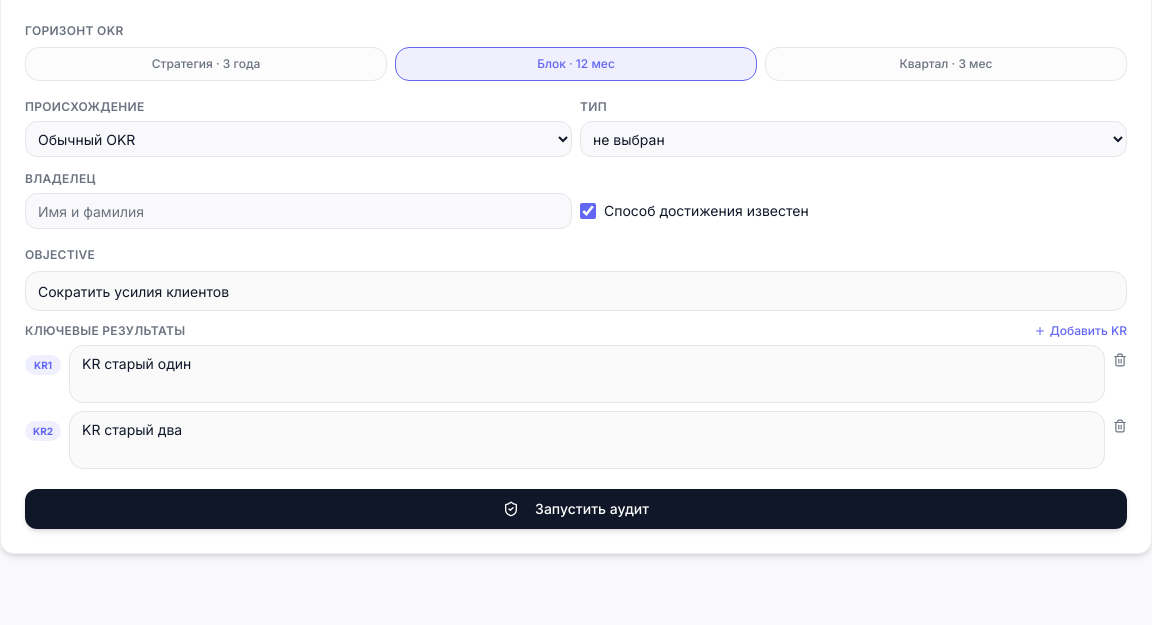
it: F-03: complete an edit session before re-auditing › on successful re-audit shows before/after and restores current actions
Click the button "Запустить аудит". click: (576, 509)
box: [25,489,1127,529]
(page scrolled)
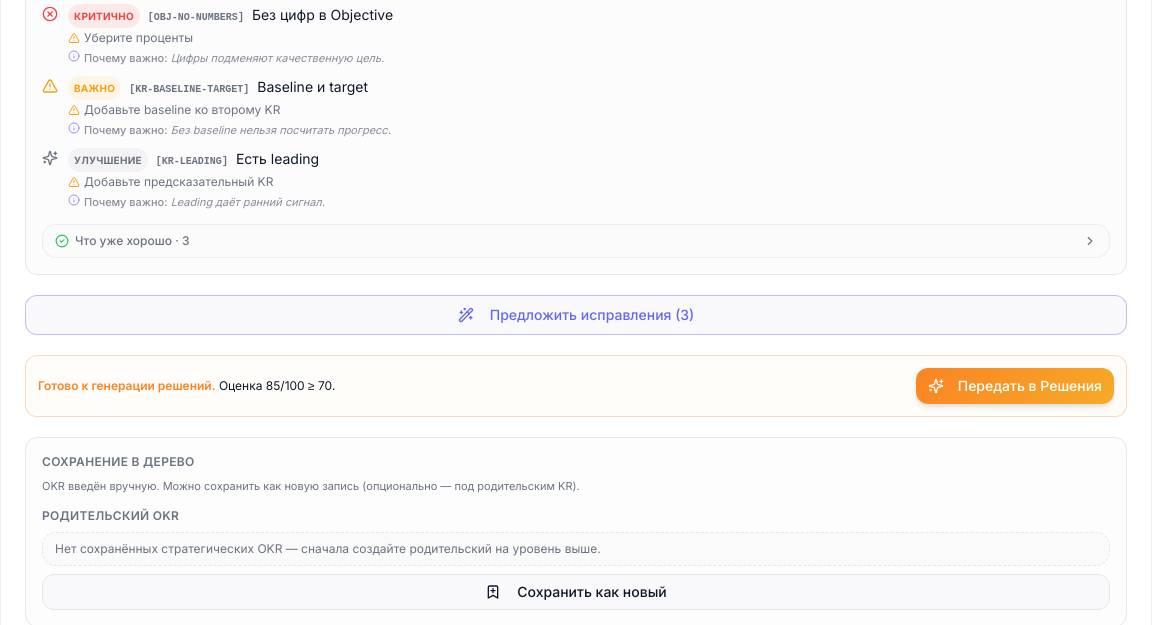
Now the button with test id "request-fix-button" is shown
Click the button with test id "request-fix-button". click: (576, 314)
box: [25,294,1127,334]
(page scrolled)
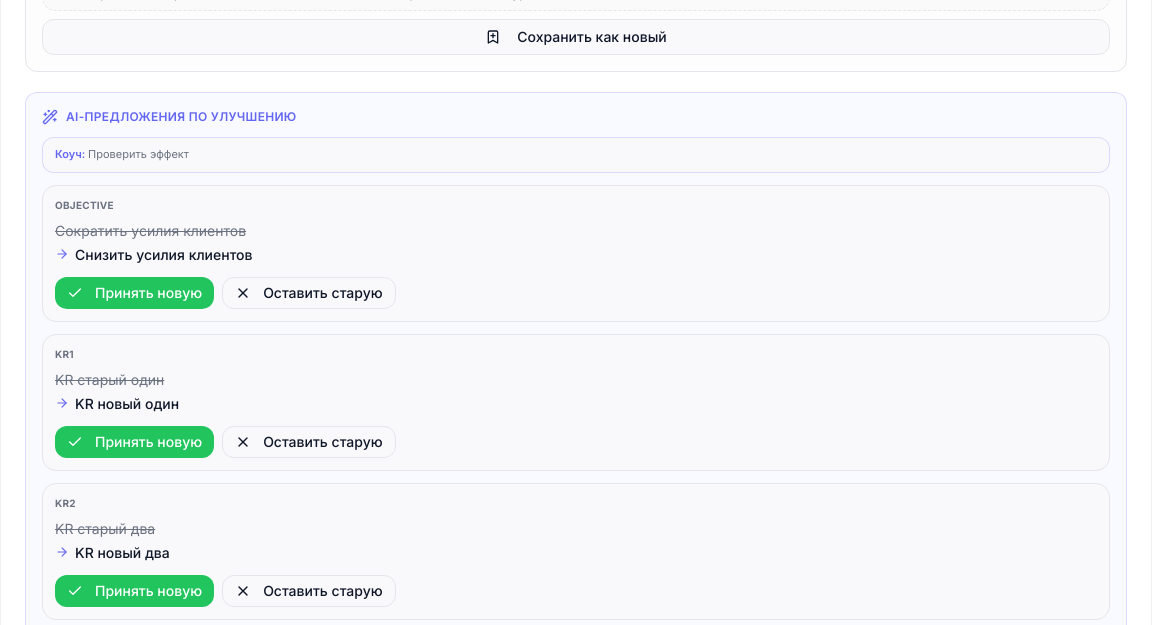
Now the text "KR новый два" is shown, box [75,543,170,563]
Click the button "Принять новую" below "Снизить усилия клиентов". click: (135, 293)
box: [55,277,214,309]
(page scrolled)
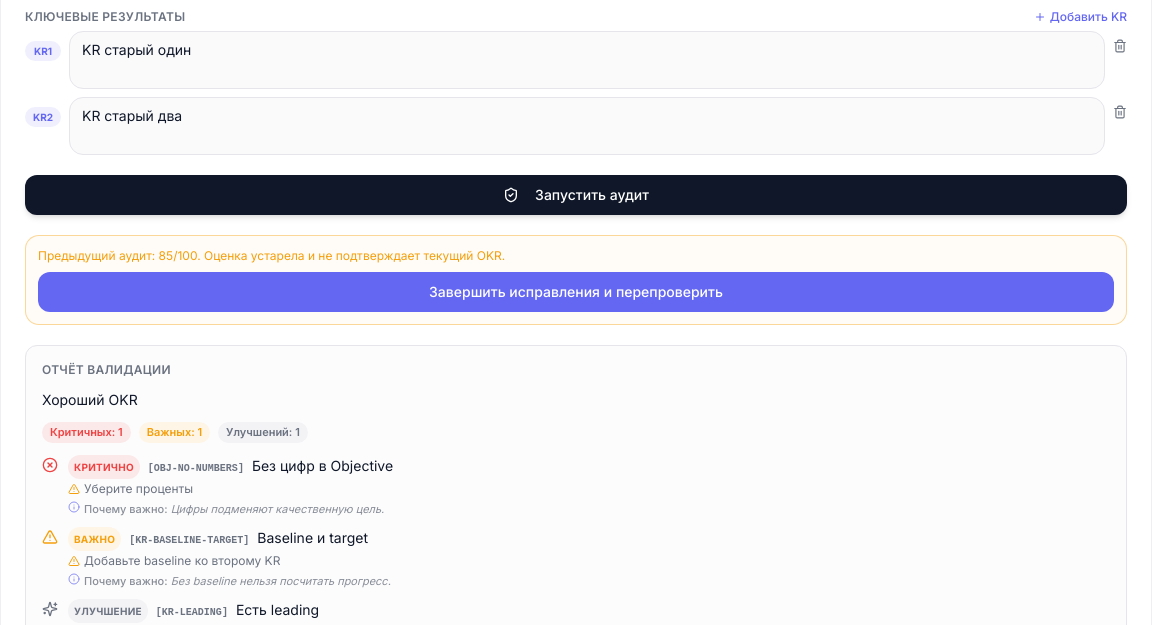
Click the button "Завершить исправления и перепроверить". click: (576, 292)
box: [38,272,1114,312]
(page scrolled)
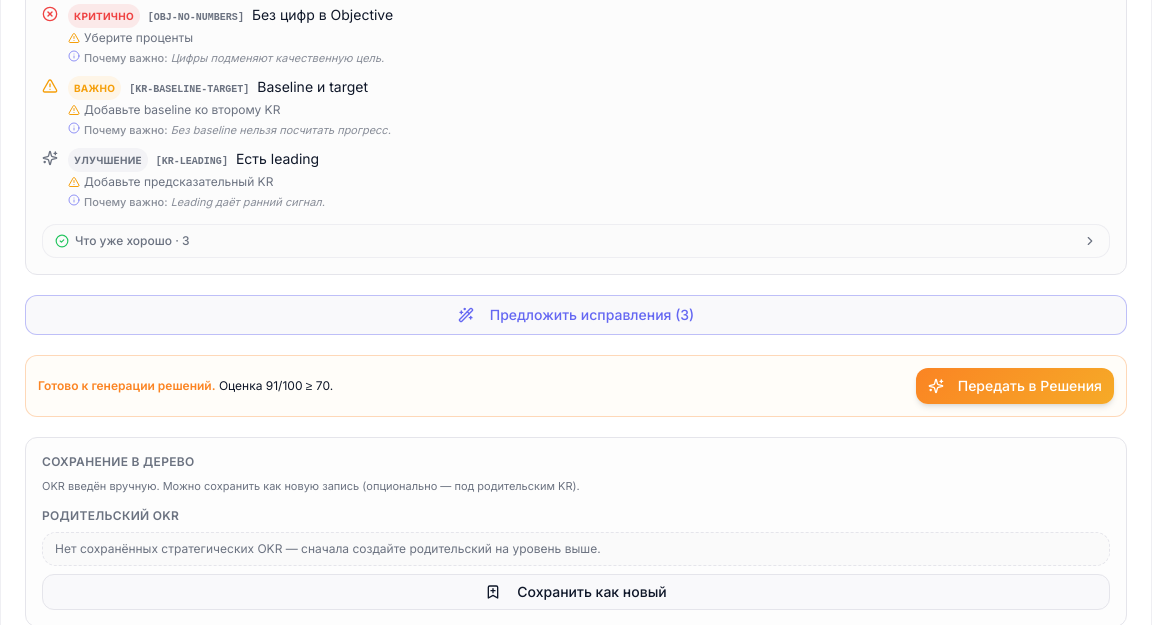
Now the text with test id "historical-audit-warning" is gone
Now the button "Передать в Решения" is enabled, box [916,368,1114,404]
